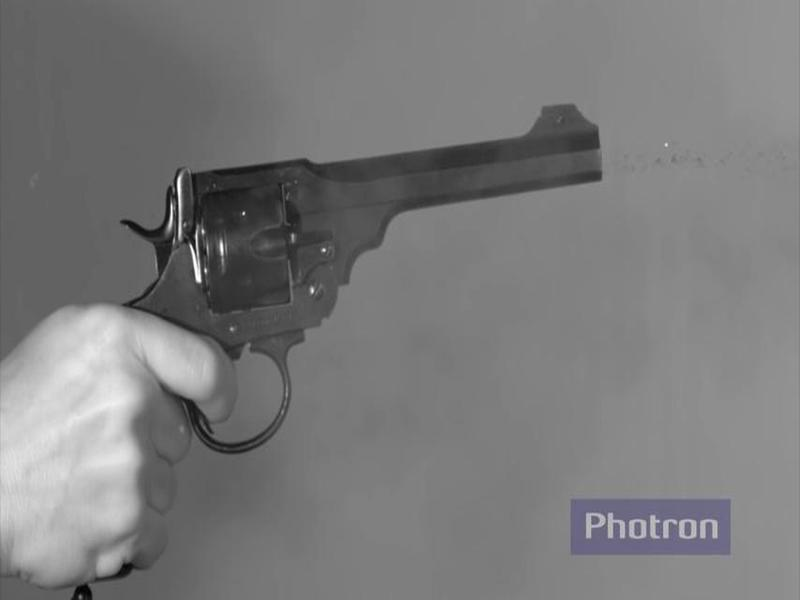Revolver: (78, 94, 636, 427)
